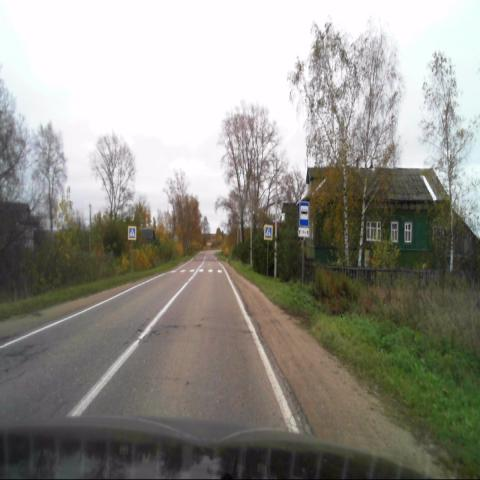5_16: (299, 200, 309, 226)
5_19_1: (263, 224, 273, 242), (128, 226, 136, 241)
8_2_1: (298, 227, 310, 238)
